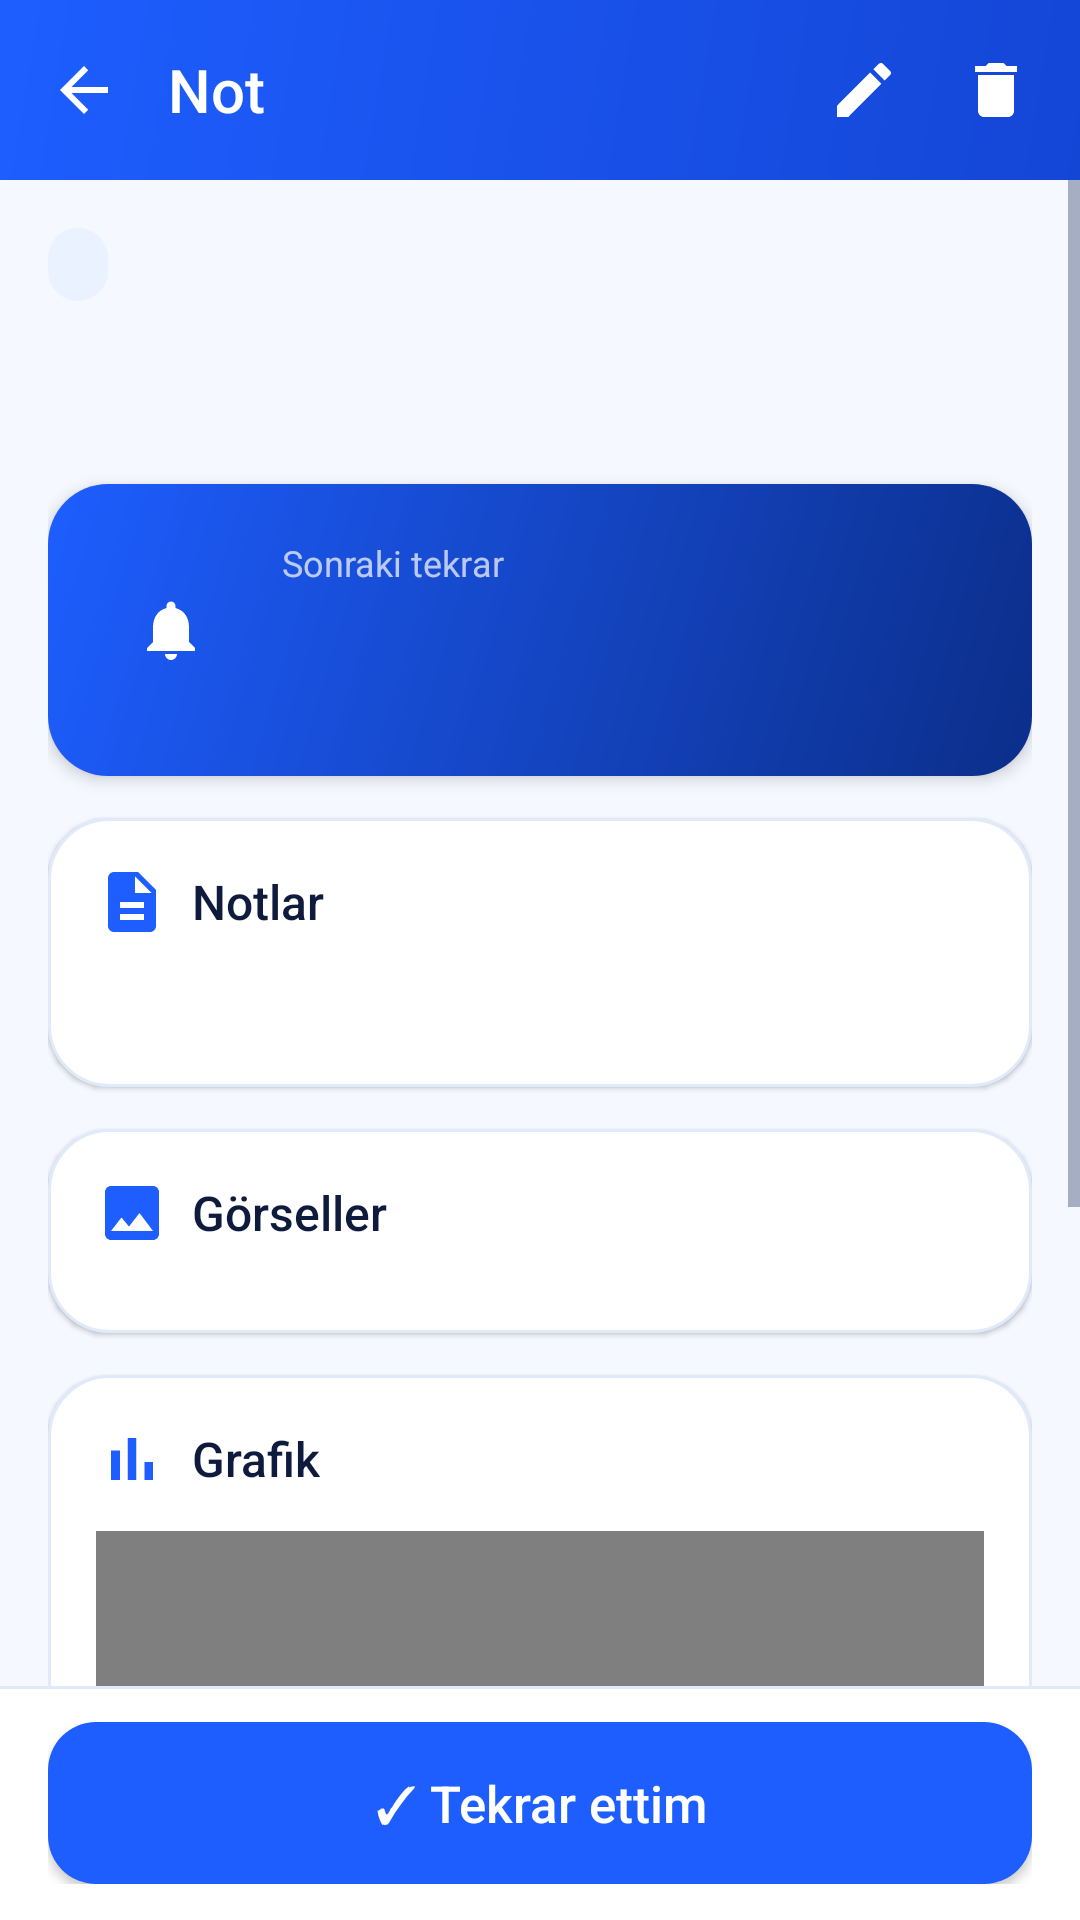

Point at icon controls on the screen. Image size 1080px×1920px, points as (x,y).
bell: (171,630)
Düzenle: (864,90)
Geri: (84,90)
Sil: (996,90)
